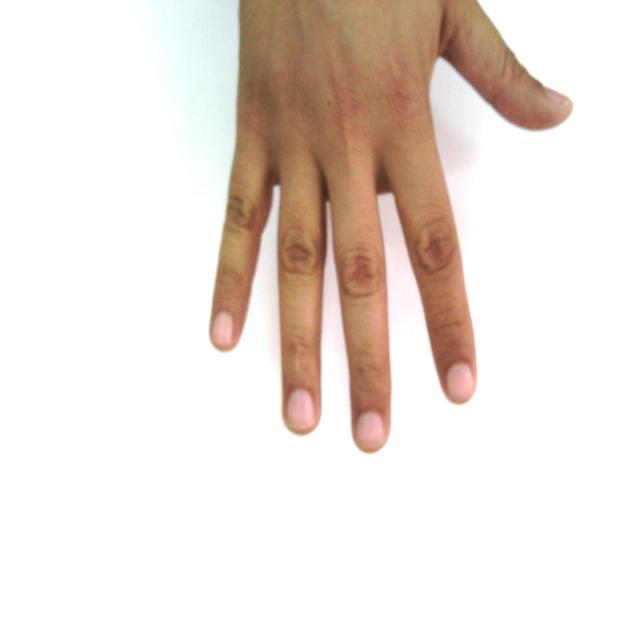Fingernail: (288, 390, 315, 430), (356, 412, 384, 450), (447, 364, 473, 403), (213, 313, 233, 346), (545, 90, 571, 105)
